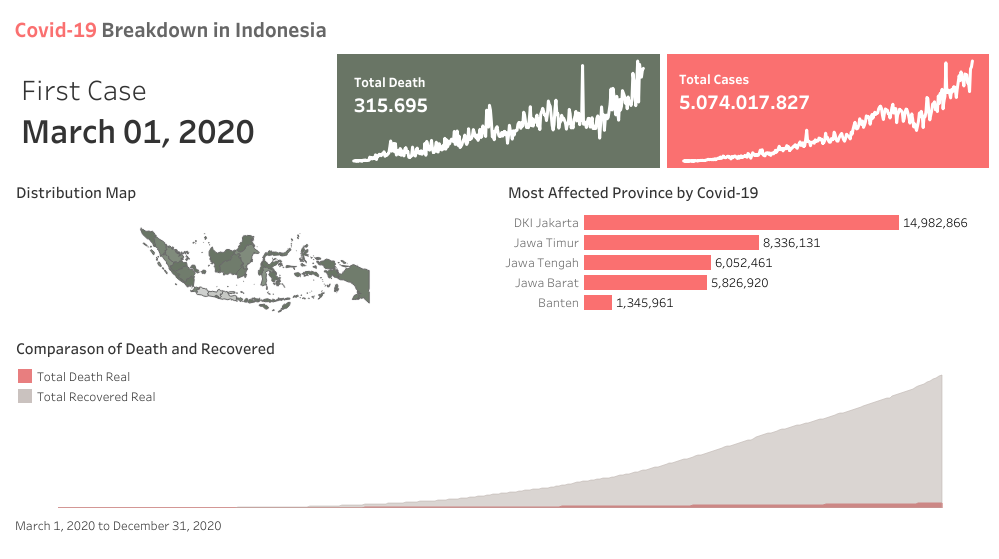

The dashboard page shown, as its layout file describes it:
{"tool":"tableau","page":{"name":"Dashboard 4","canvas":[1000,1000],"units":"permille","ordinal":0},"visuals":[{"type":"text","box":[8,14.3,984,74.5]},{"type":"worksheet","title":"First Case","mark":"Automatic","box":[8,88.8,325,216.7]},{"type":"worksheet","title":"Total Kematian","mark":"Line","rows":["New Deaths"],"cols":["Date"],"box":[333,88.8,329.5,216.7]},{"type":"worksheet","title":"Kasus Terkonfirmasi","mark":"Line","rows":["New Cases"],"cols":["Date"],"box":[662.5,88.8,329.5,216.7]},{"type":"worksheet","title":"Kasus Terkonfirmasi (2)","mark":"Line","box":[675,111.9,154,115.5]},{"type":"worksheet","title":"Total Kematian (2)","mark":"Line","box":[350,117.2,101,97.7]},{"type":"worksheet","title":"Peta","mark":"Automatic","box":[8,305.5,492,278.8]},{"type":"worksheet","title":"Worst Province","mark":"Automatic","rows":["Province"],"cols":["Total Cases"],"box":[500,305.5,492,278.8]},{"type":"worksheet","title":"Comparason","mark":"Area","rows":["Calculation_7881331093135367","Calculation_7881331093393416"],"cols":["Date"],"box":[8,584.4,984,330.3]},{"type":"legend","title":"Comparason","param":"[federated.1tymubh0yns4fq14oqf1h0b8byp1].[:Measure Names]","box":[15,653.6,145,103]},{"type":"filter","title":"Total Kematian","param":"[federated.1tymubh0yns4fq14oqf1h0b8byp1].[tdy:Date:qk]","box":[8,914.6,984,71.1]}]}

Visuals, with their boxes on the dashboard's canvas, which has no fixed pixel size, in thousandths of its width and height (x1, y1, x2, y2). These are canvas units, not pixel positions in the 999x559 screenshot, which may show the page scaled, cropped or inside an application window:
text: BBox(8, 14, 992, 89)
"First Case" worksheet: BBox(8, 89, 333, 306)
"Total Kematian" worksheet (Line marks): BBox(333, 89, 662, 306)
"Kasus Terkonfirmasi" worksheet (Line marks): BBox(662, 89, 992, 306)
"Kasus Terkonfirmasi (2)" worksheet (Line marks): BBox(675, 112, 829, 227)
"Total Kematian (2)" worksheet (Line marks): BBox(350, 117, 451, 215)
"Peta" worksheet: BBox(8, 306, 500, 584)
"Worst Province" worksheet: BBox(500, 306, 992, 584)
"Comparason" worksheet (Area marks): BBox(8, 584, 992, 915)
"Comparason" legend: BBox(15, 654, 160, 757)
"Total Kematian" filter: BBox(8, 915, 992, 986)
